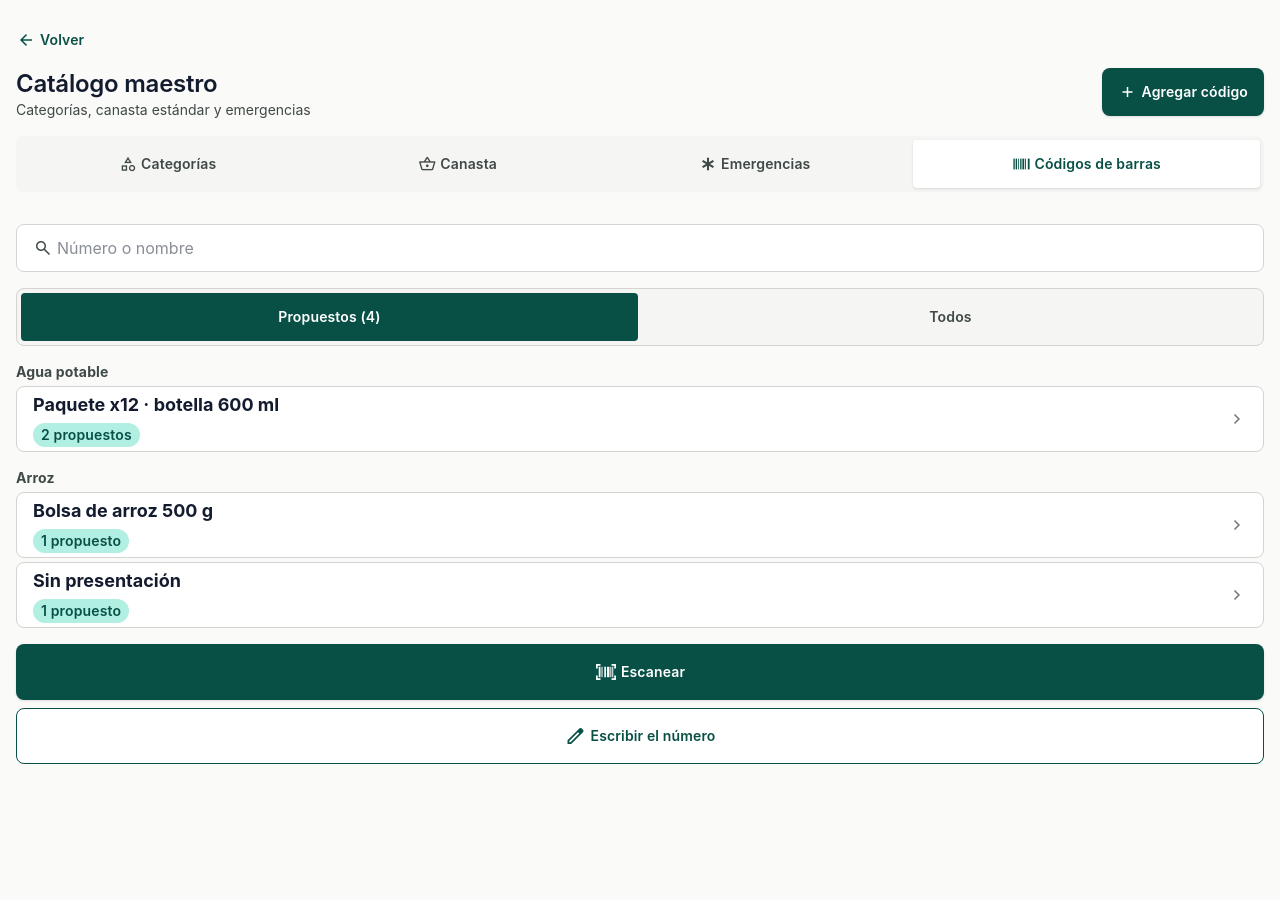
Test: C18 Códigos › abrir una presentación muestra sus códigos con «Aprobar» y «Cambiar de presentación», sin «Borrar»
The width and height of the screenshot is (1280, 900).
Step 1. Click the button "Paquete x12 · botella 600 ml 2 propuestos" → (156, 404), box [16,386,1264,452]
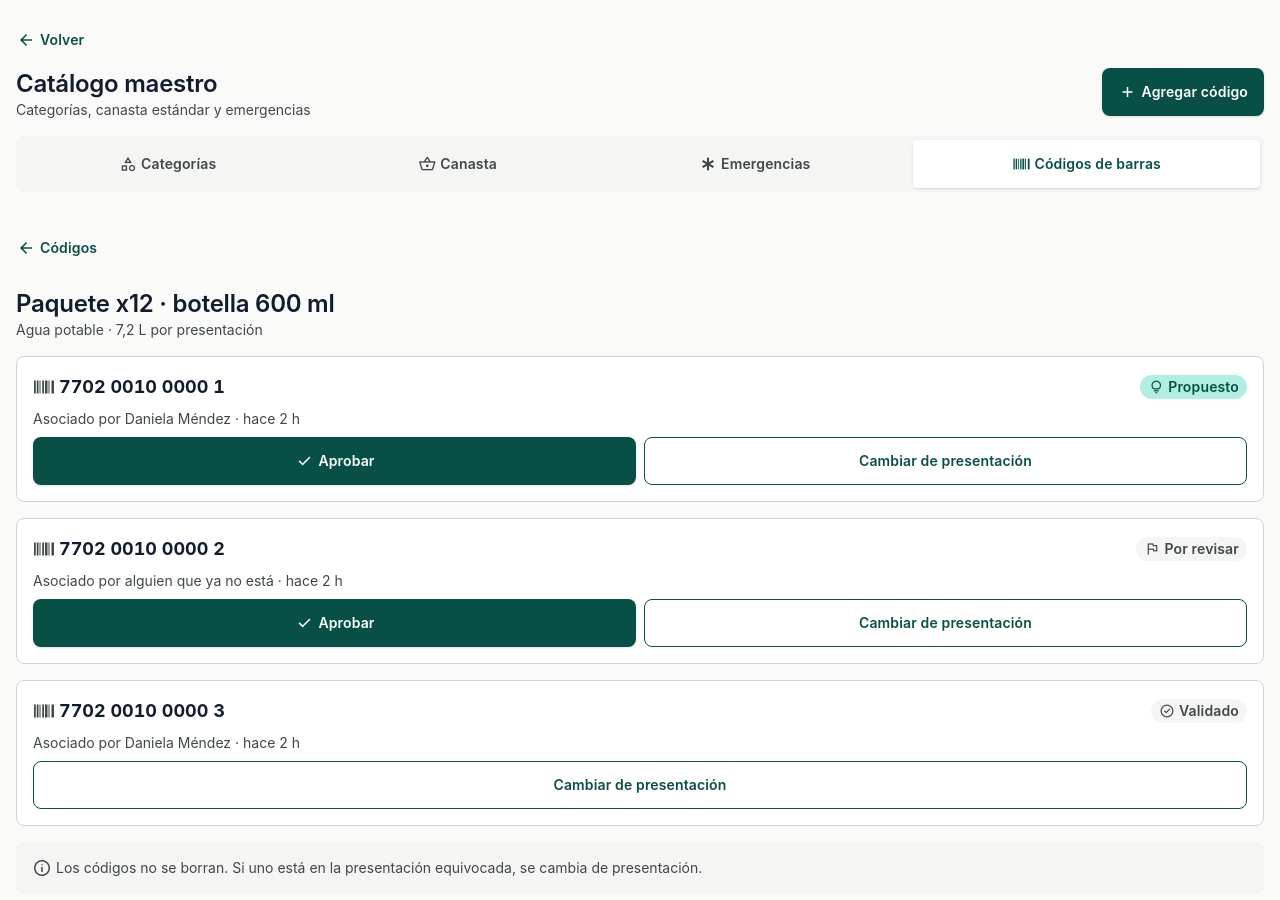
Check: the element named "7702001000001" shows "Propuesto", box [1168,378,1239,395]
Check: the button "Aprobar" below "7702 0010 0000 1" is shown, box [33,437,636,485]
Check: the button "Cambiar de presentación" below "Propuesto" is shown, box [644,437,1247,485]
